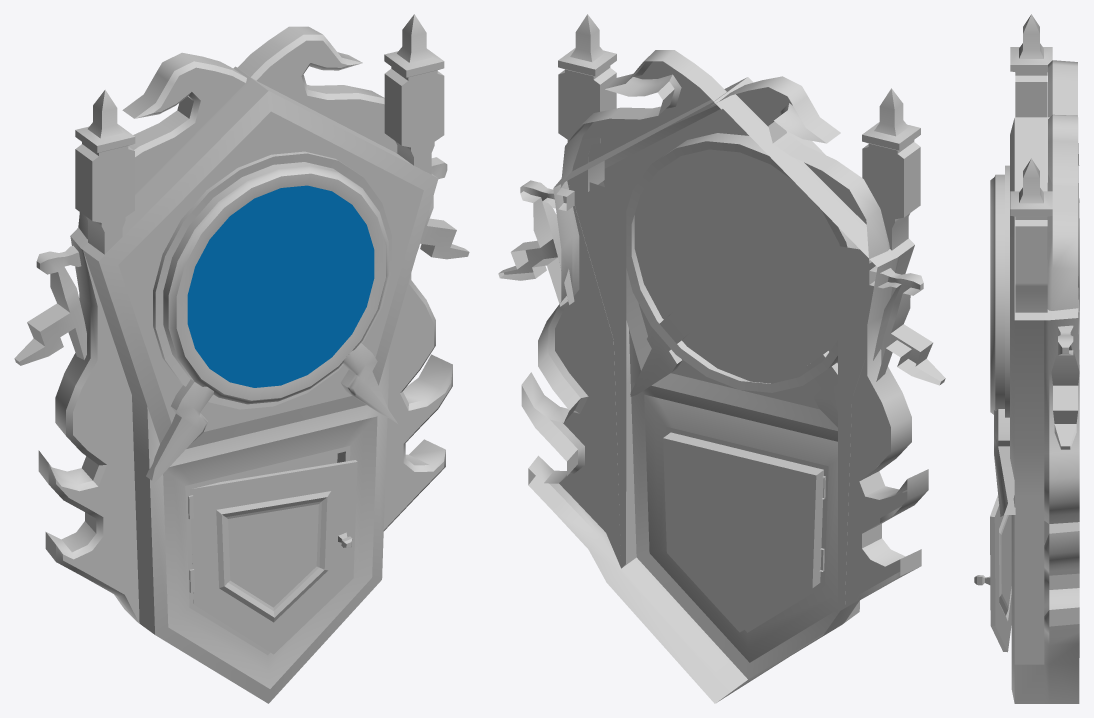
Rendered from Mad Wall Clock Animatable.fbx.
3 renders of one model, left to right at view 1: azimuth 30°, elevation 25°; view 2: azimuth 150°, elevation 25°; view 3: azimuth 270°, elevation 25°, orthographic. The views are drawn at different scales.
Parts seen in each view (by area): view 1: Base, Door; view 2: Base; view 3: Base, Door.
Part boxes in pixels (x1,y1,x2,y2): Base: [14, 14, 469, 703]; Door: [190, 460, 357, 654]; Base: [498, 14, 945, 703]; Base: [990, 14, 1079, 703]; Door: [974, 495, 1011, 652].
Size of the model in its own units: 63.71 by 87.29 by 13.51.
